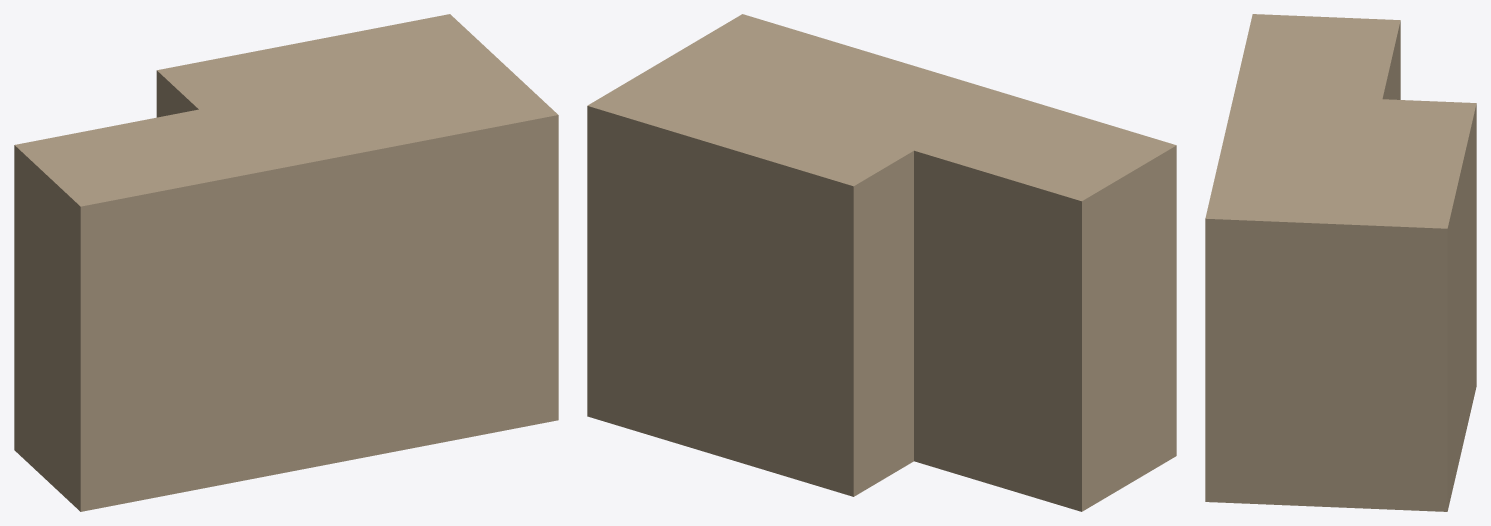
The model's file is bld_101353630.dae.
The picture shows the model from 3 angles, left to right: view 1: azimuth 30°, elevation 25°; view 2: azimuth 150°, elevation 25°; view 3: azimuth 270°, elevation 25°; orthographic projection. The views are drawn at different scales.
Parts seen in each view (by area): view 1: bld_101353630; view 2: bld_101353630; view 3: bld_101353630.
Boxes of the visible parts, box(x1,y1,x2,y2) form: bld_101353630: box(14, 14, 558, 511); bld_101353630: box(587, 14, 1176, 511); bld_101353630: box(1205, 14, 1476, 511).
Size of the model in its own units: 13.01 by 6.95 by 8.
